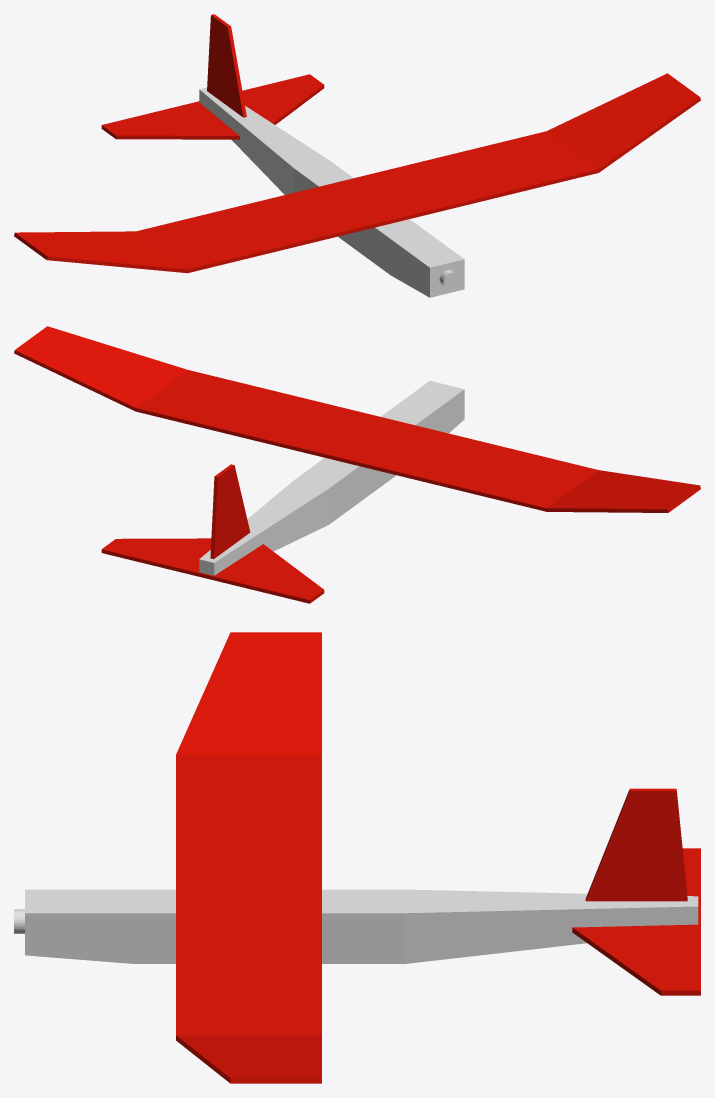
File: Aircraft.glb
3 views of the same model, one above another, from view 1: azimuth 30°, elevation 25°; view 2: azimuth 150°, elevation 25°; view 3: azimuth 270°, elevation 25° (orthographic). The views are drawn at different scales.
Parts seen in each view (by area): view 1: Wing, Fuselage, Horizontal Stab, Vertical Stab; view 2: Wing, Fuselage, Horizontal Stab, Vertical Stab; view 3: Wing, Fuselage, Vertical Stab, Horizontal Stab.
Boxes of the visible parts, left/top/right/bottom form: Wing: left=14, top=73, right=700, bottom=273; Fuselage: left=199, top=87, right=464, bottom=297; Horizontal Stab: left=101, top=74, right=324, bottom=139; Vertical Stab: left=207, top=14, right=246, bottom=117; Wing: left=14, top=326, right=700, bottom=512; Fuselage: left=199, top=381, right=464, bottom=575; Horizontal Stab: left=101, top=538, right=324, bottom=603; Vertical Stab: left=210, top=464, right=250, bottom=558; Wing: left=176, top=632, right=321, bottom=1083; Fuselage: left=25, top=889, right=698, bottom=963; Vertical Stab: left=585, top=788, right=687, bottom=901; Horizontal Stab: left=572, top=848, right=700, bottom=995.
Bounding box in the file's own units: 0.9422 × 0.1587 × 0.6121.
